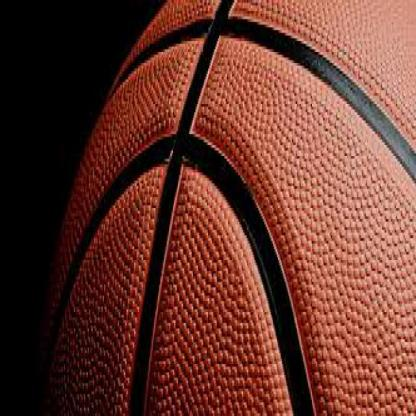basketball: (37, 0, 414, 413)
